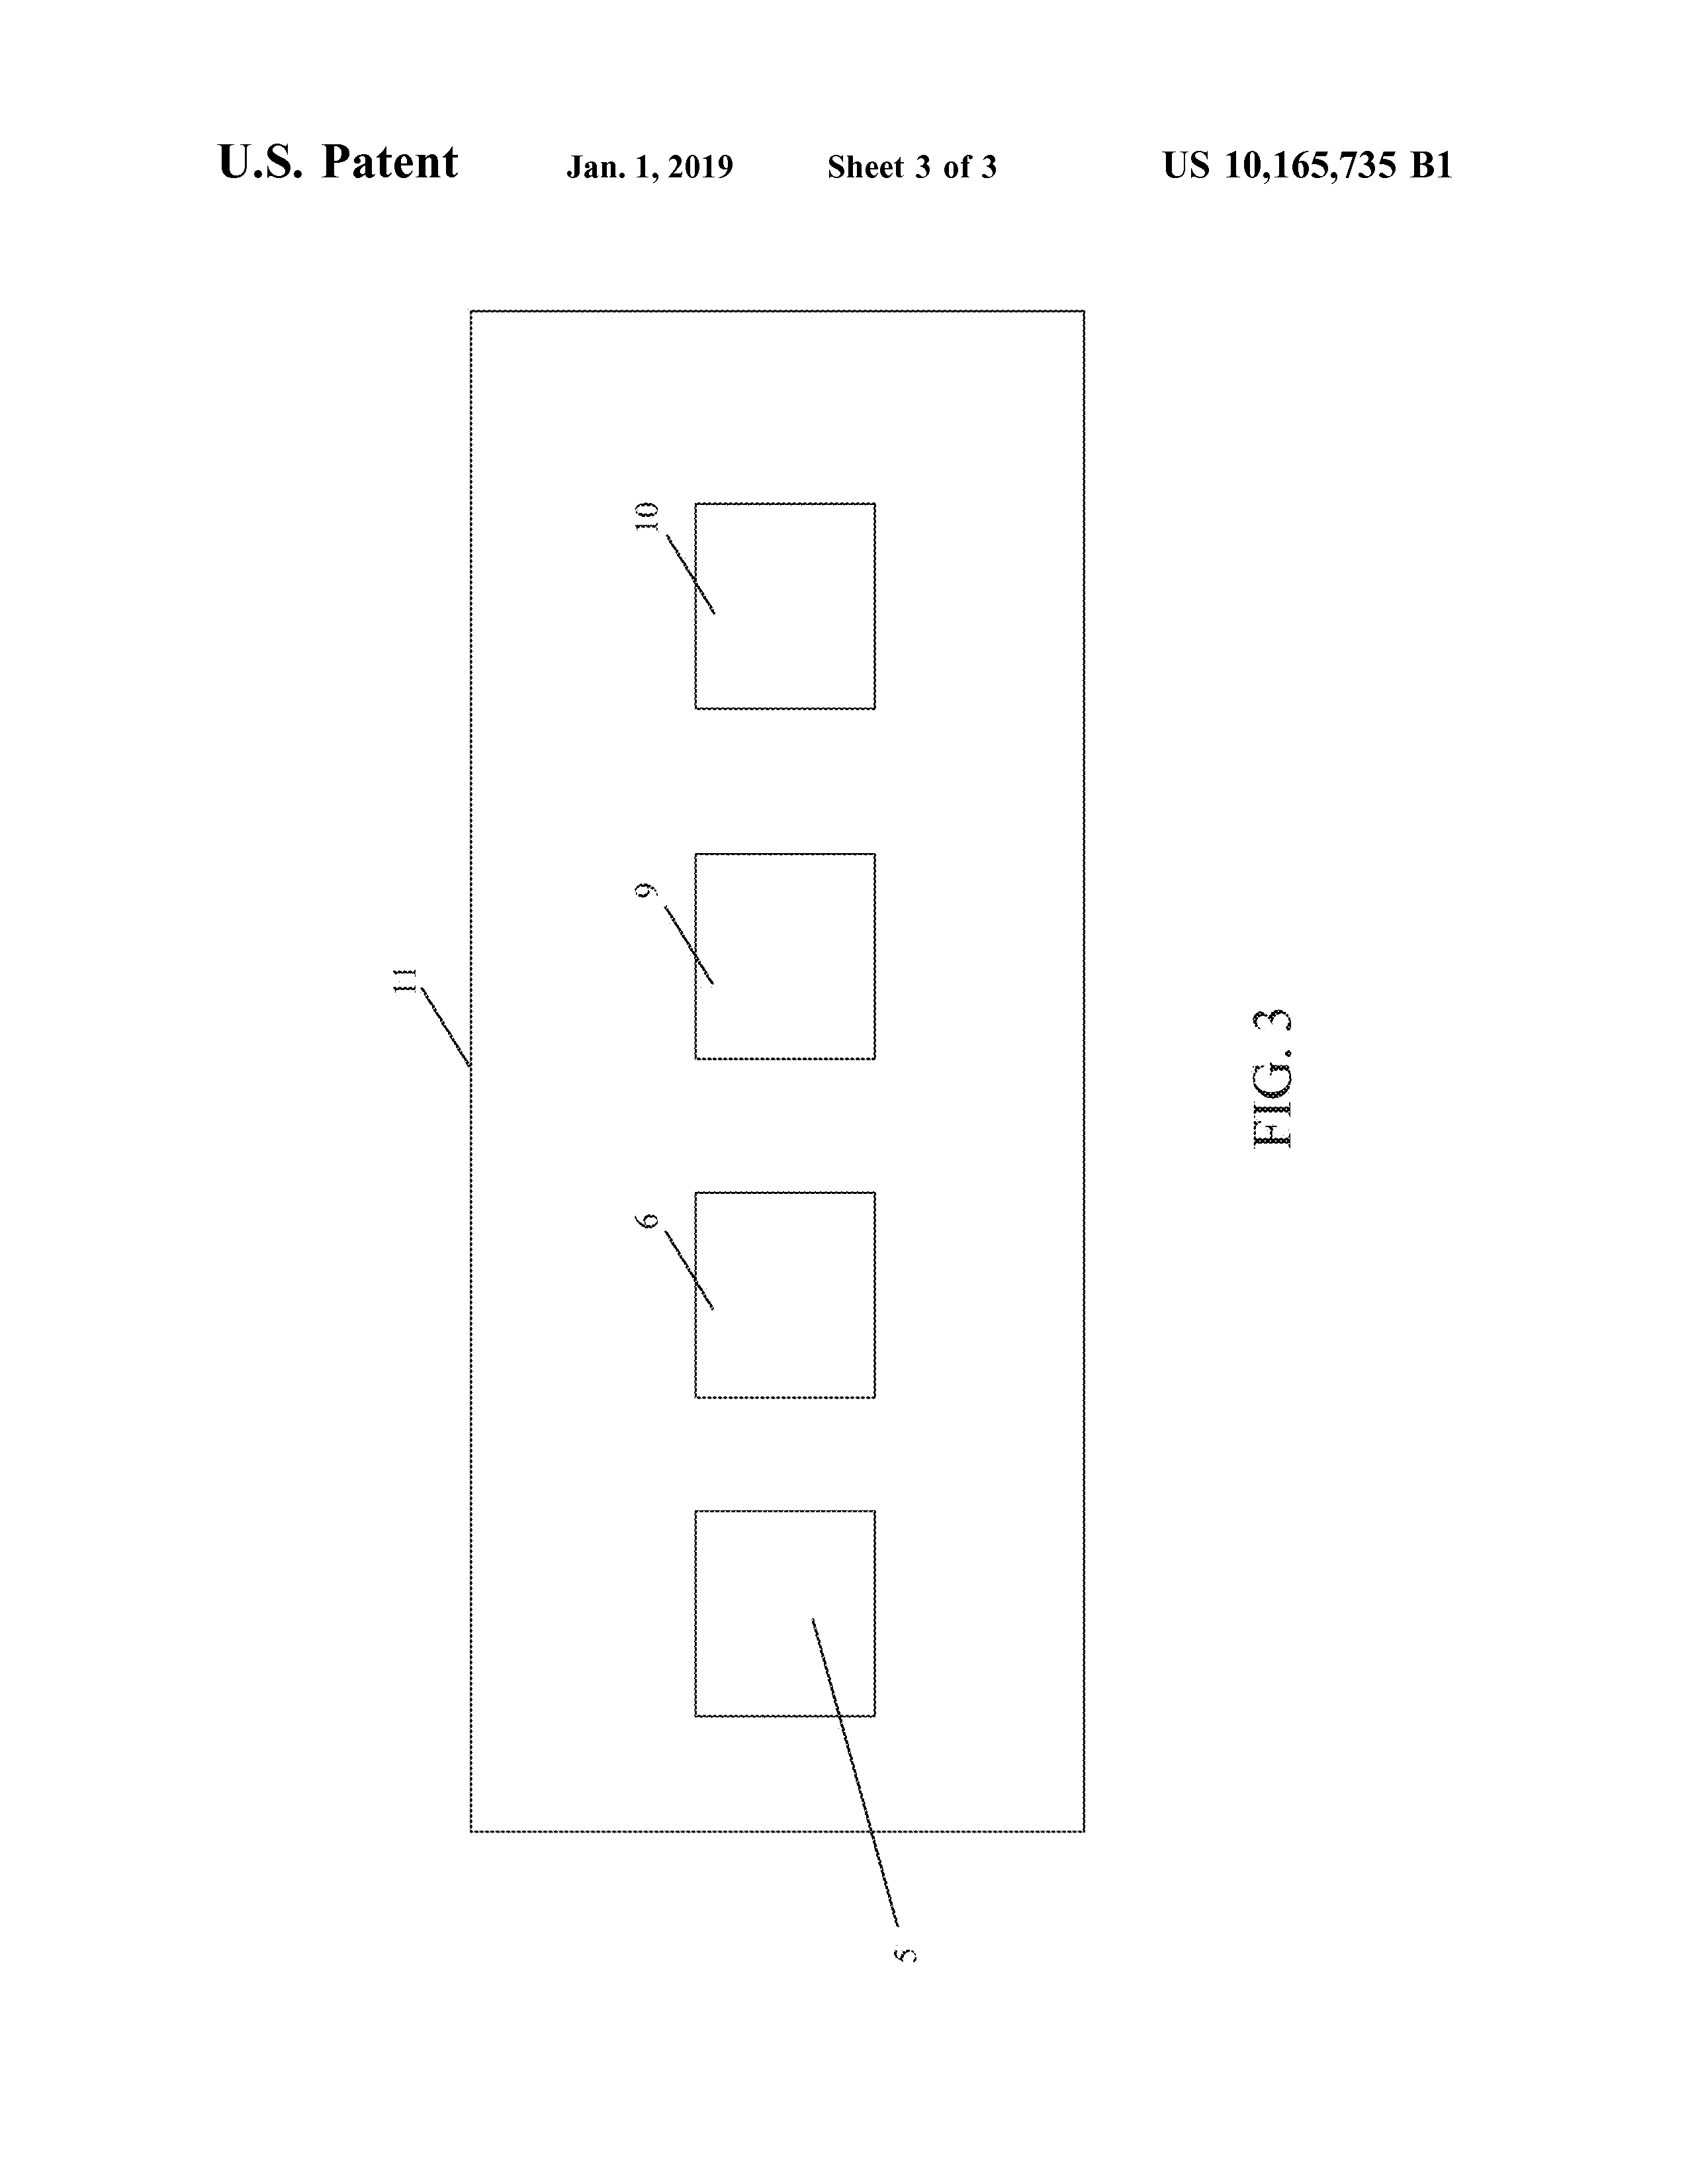patent image: (388, 250, 1343, 2017)
